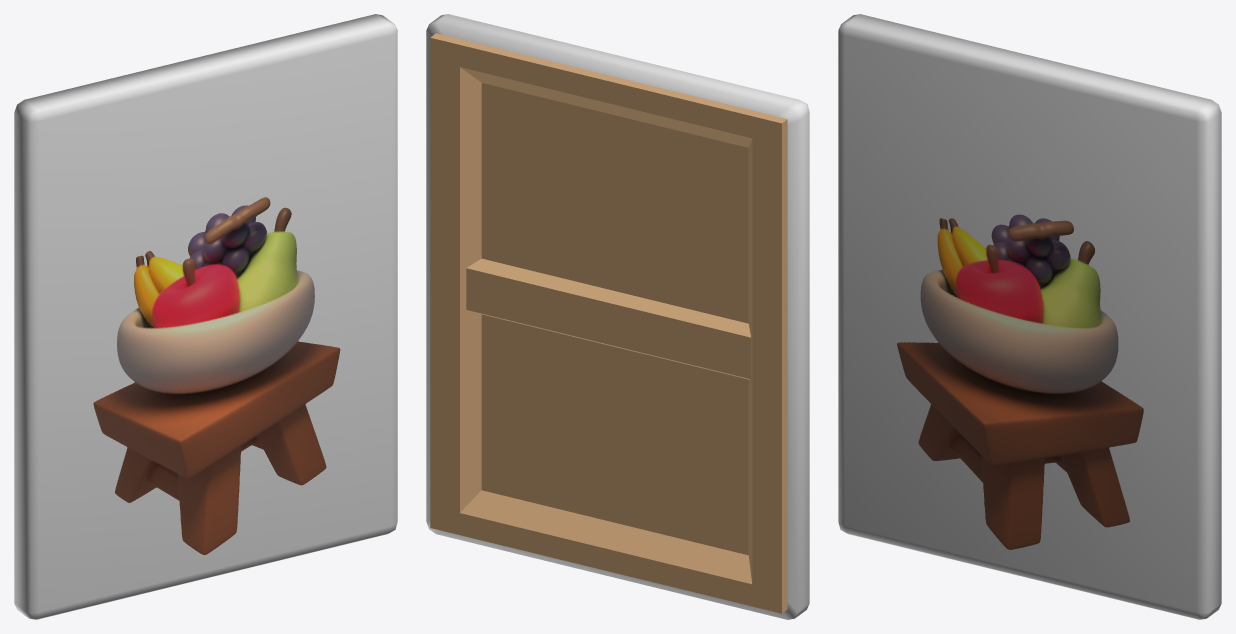
Rendered from painting_with_texture.fbx.
3 views of the same model, side by side, from view 1: azimuth 30°, elevation 25°; view 2: azimuth 150°, elevation 25°; view 3: azimuth 330°, elevation 25° (orthographic).
Parts seen in each view (by area): view 1: painting_with_texture; view 2: painting_with_texture; view 3: painting_with_texture.
Boxes of the visible parts, x1,y1,x2,y2 form: painting_with_texture: (14,14,397,619); painting_with_texture: (426,14,809,619); painting_with_texture: (838,14,1221,619).
Bounding box in the file's own units: 1.19 × 1.57 × 0.1228.
